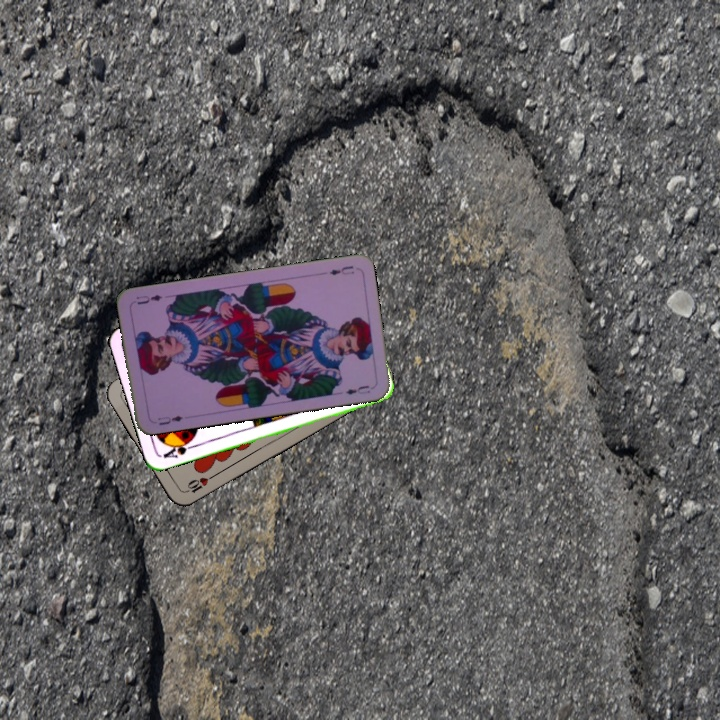EU: (154, 411, 185, 428), (325, 262, 356, 278)
H10: (180, 470, 218, 496)
SA: (159, 435, 199, 461)
